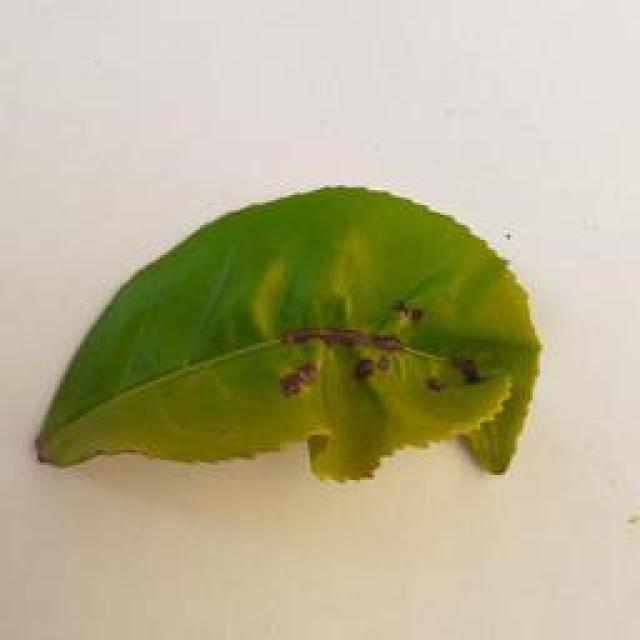Helopeltis: (28, 174, 538, 502)
